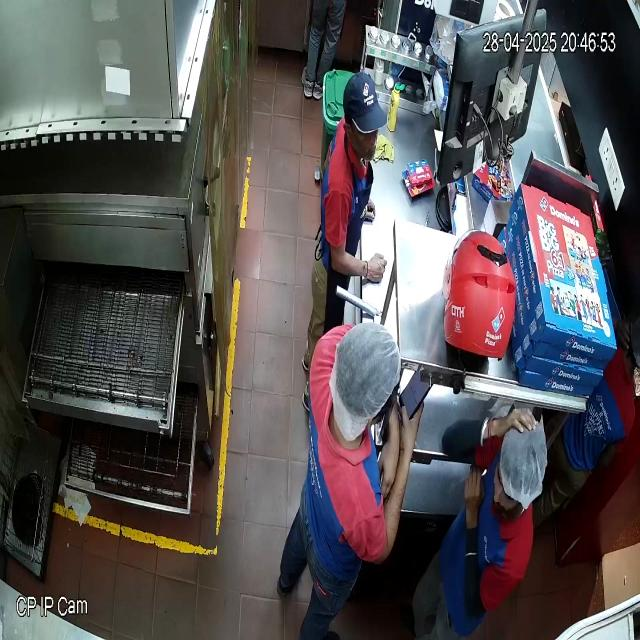helmet: (441, 229, 517, 360)
no_helmet: (329, 321, 400, 441), (491, 420, 549, 516), (343, 71, 387, 160)
